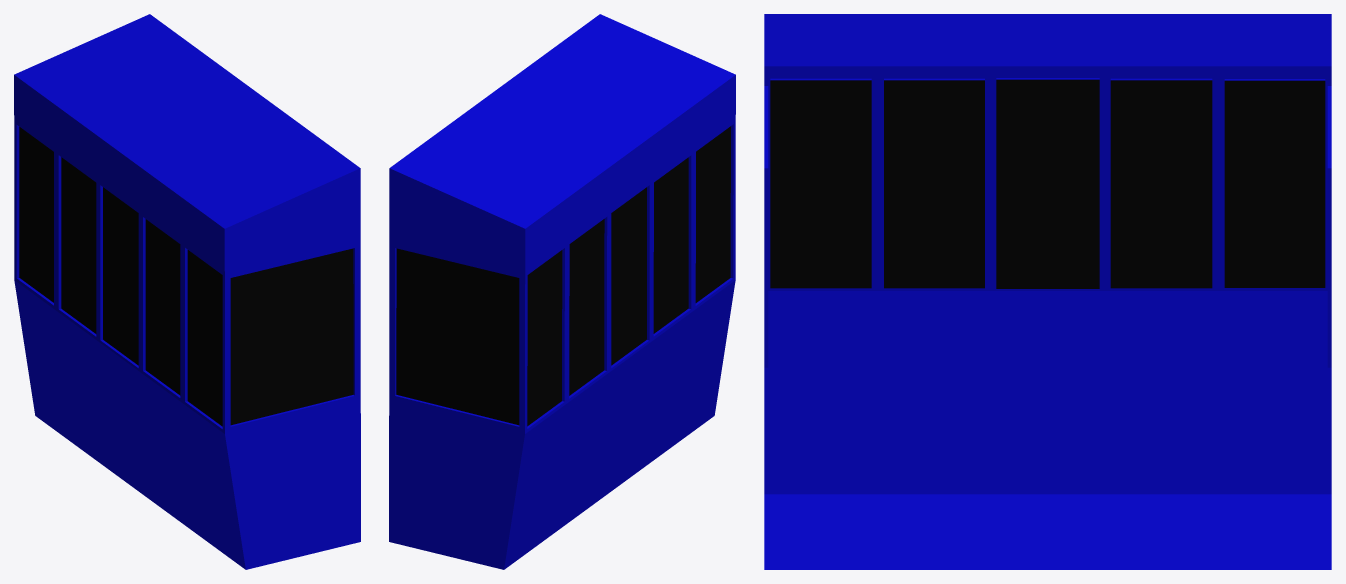
The model's file is balcon 2LOW.fbx.
3 renders of one model, left to right at view 1: azimuth 30°, elevation 25°; view 2: azimuth 150°, elevation 25°; view 3: azimuth 270°, elevation 25°, orthographic. The views are drawn at different scales.
Visible parts, largest first — view 1: Плоскость.002; view 2: Плоскость.002; view 3: Плоскость.002.
Part boxes in pixels (box(x1,y1,x2,y2)): Плоскость.002: box(14, 14, 360, 569); Плоскость.002: box(389, 14, 735, 569); Плоскость.002: box(764, 14, 1331, 569).
Bounding box in the file's own units: 160 × 418 × 427.
